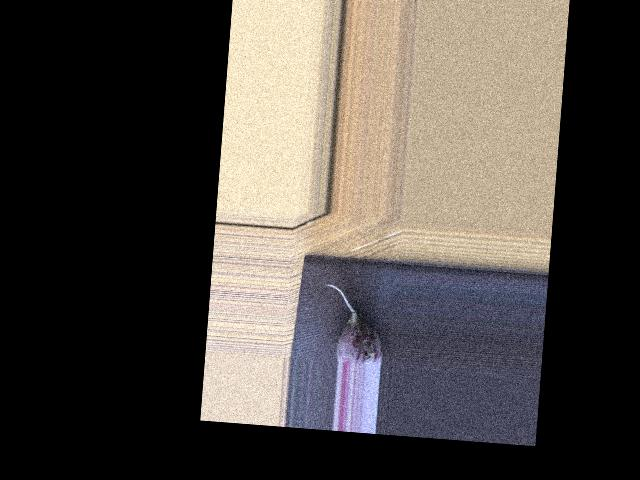beet: (320, 283, 387, 365)
